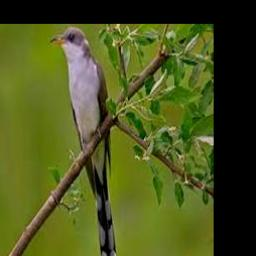Cuckoo: (50, 26, 117, 256)
